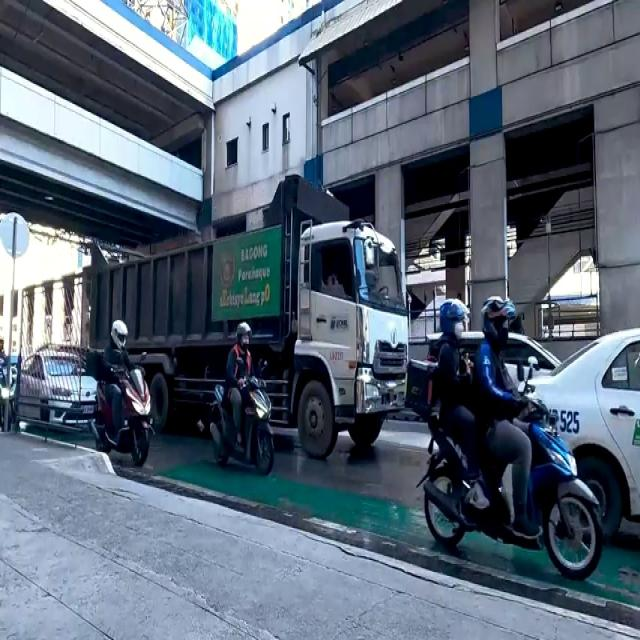car: (30, 348, 94, 425)
motorcycle: (445, 319, 594, 576), (214, 344, 280, 470), (98, 333, 155, 467)
truck: (97, 191, 409, 446)
